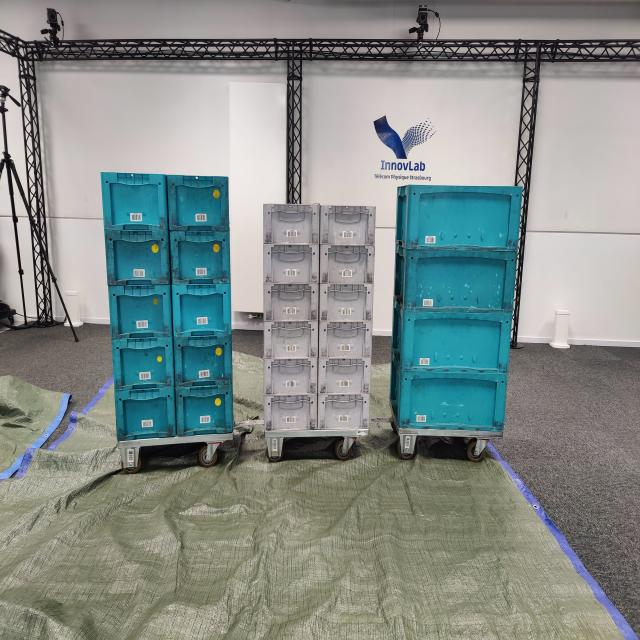Box8G: (262, 200, 319, 246), (319, 204, 378, 248), (262, 243, 321, 285), (319, 282, 374, 326), (264, 282, 320, 325), (264, 319, 320, 362), (319, 320, 374, 361), (320, 245, 376, 285), (263, 357, 319, 397), (316, 358, 373, 397), (317, 394, 372, 432), (264, 394, 318, 432)
BoxB4: (392, 183, 524, 256), (386, 360, 509, 433), (387, 249, 521, 316), (390, 312, 512, 378)
BoxB8: (98, 169, 168, 235), (107, 279, 170, 343), (166, 173, 232, 234), (111, 336, 176, 396), (106, 228, 170, 288), (170, 284, 235, 340), (168, 231, 234, 286), (176, 383, 237, 442), (115, 386, 176, 445), (173, 337, 237, 393)
